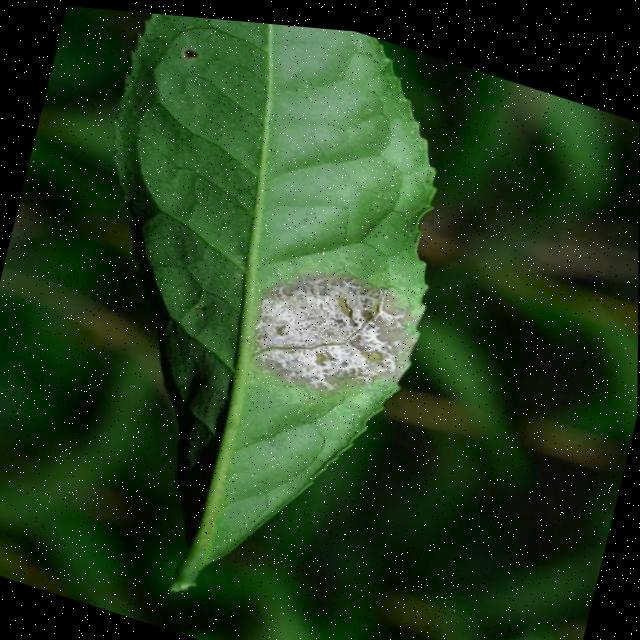Tea exobasidium blight: (237, 244, 435, 424)
